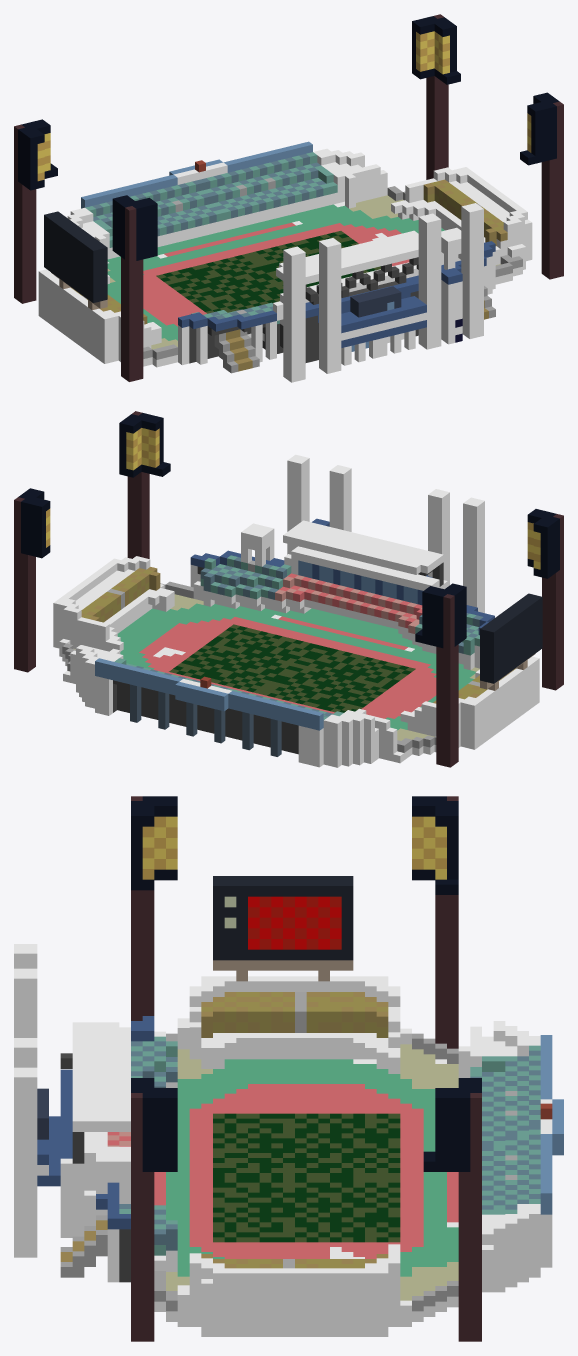
Rendered from rikuzyoukyougijyou.glb.
The picture shows the model from 3 angles, top to bottom: view 1: azimuth 30°, elevation 25°; view 2: azimuth 150°, elevation 25°; view 3: azimuth 270°, elevation 25°; orthographic projection. The views are drawn at different scales.
Parts seen in each view (by area): view 1: Untitled; view 2: Untitled; view 3: Untitled.
Part boxes in pixels (x1=…): Untitled: x1=14, y1=14, x2=563, y2=382; Untitled: x1=14, y1=411, x2=563, y2=767; Untitled: x1=14, y1=796, x2=563, y2=1341.
Bounding box in the file's own units: 1.24 × 0.46 × 0.94.
1 material, 1 textured.
